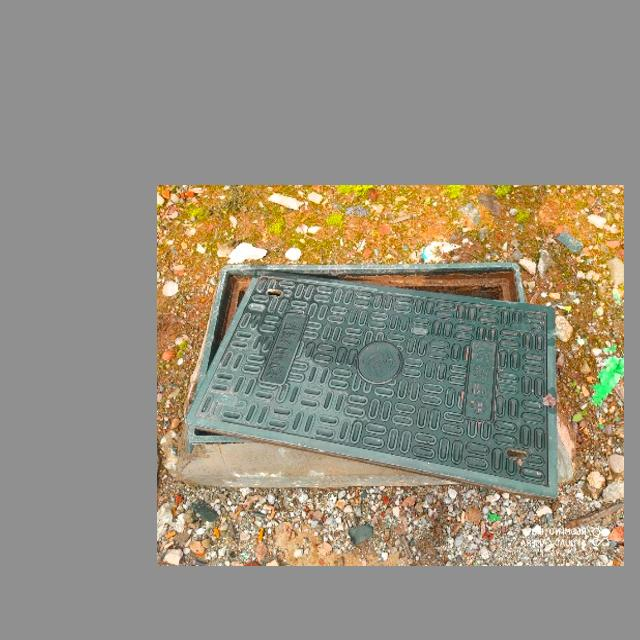uncovered: (189, 262, 558, 494)
